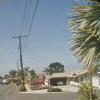Palm tree: (61, 1, 100, 97)
